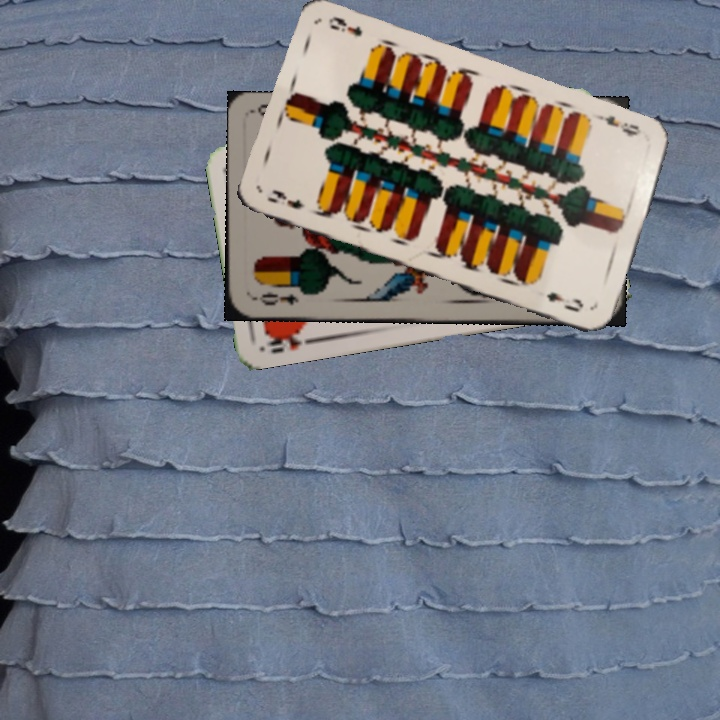E9: (595, 111, 644, 139), (263, 185, 308, 212)
EO: (250, 288, 301, 308)
HO: (259, 326, 319, 356)
